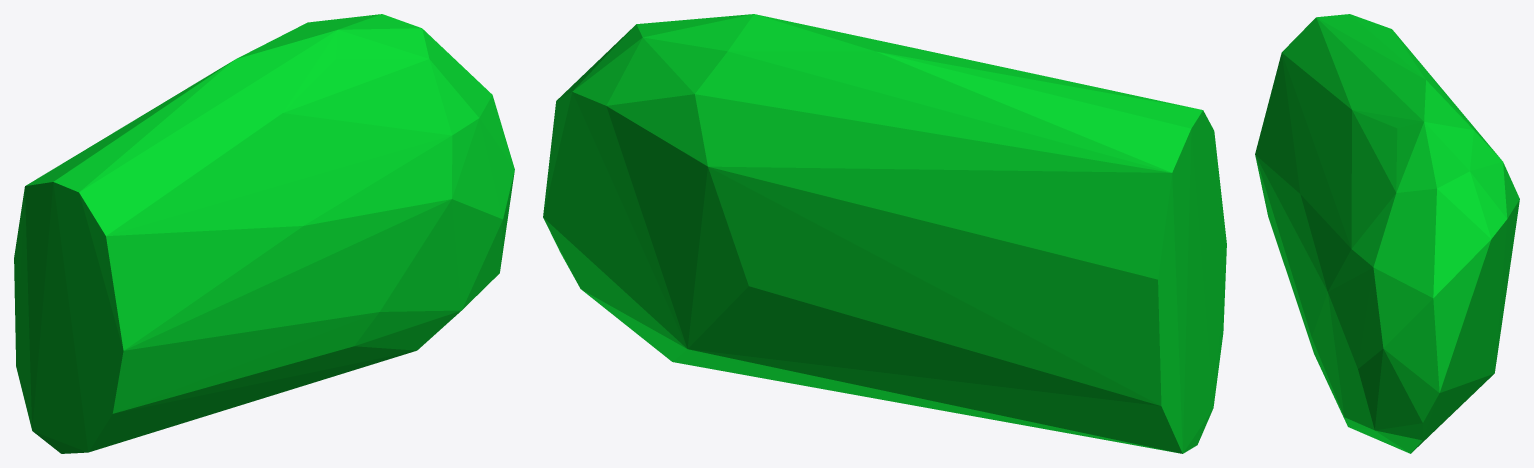
File: arm-L4_convex_piece_004.obj
3 views of the same model, side by side, from view 1: azimuth 30°, elevation 25°; view 2: azimuth 150°, elevation 25°; view 3: azimuth 270°, elevation 25° (orthographic). The views are drawn at different scales.
Size of the model in its own units: 0.0889 by 0.0533 by 0.0431.
